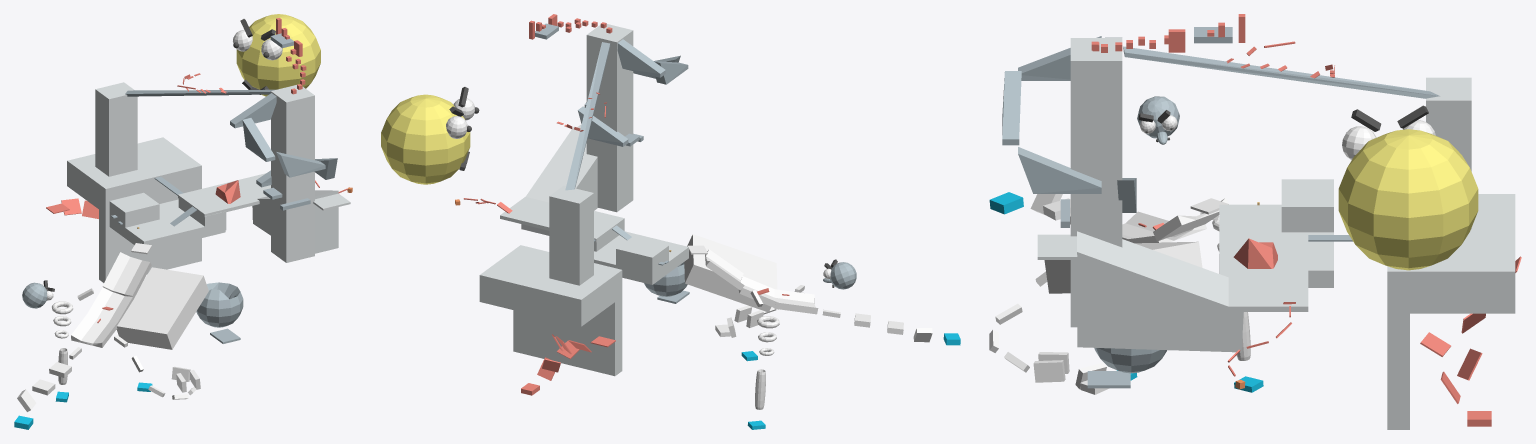
Rendered from level4.glb.
The picture shows the model from 3 angles, left to right: view 1: azimuth 30°, elevation 25°; view 2: azimuth 150°, elevation 25°; view 3: azimuth 270°, elevation 25°; orthographic projection. The views are drawn at different scales.
Parts seen in each view (by area): view 1: group127491709, group2090753955, group1751280750, group1849969514, group1240304164, group908328239, group2112206049, group1798445722, group1243319915, group503336638, group869225459, group2146043269 (+7 smaller); view 2: group127491709, group1751280750, group2090753955, group1849969514, group908328239, group1240304164, group1243319915, group2112206049, group1798445722, group869225459, group2146043269, group1717861150 (+2 smaller); view 3: group1849969514, group1243319915, group2090753955, group127491709, group1751280750, group1798445722, group2112206049, group1240304164, group2146043269, group869225459, group908328239, group1434077580 (+9 smaller).
Boxes of the visible parts, x1=… form: group127491709: x1=14, y1=243, x2=208, y2=429; group2090753955: x1=271, y1=85, x2=314, y2=262; group1751280750: x1=67, y1=137, x2=201, y2=213; group1849969514: x1=236, y1=14, x2=320, y2=96; group1240304164: x1=95, y1=82, x2=137, y2=176; group908328239: x1=99, y1=196, x2=201, y2=282; group2112206049: x1=109, y1=199, x2=225, y2=250; group1798445722: x1=178, y1=173, x2=270, y2=217; group1243319915: x1=252, y1=190, x2=338, y2=253; group503336638: x1=196, y1=282, x2=243, y2=327; group869225459: x1=109, y1=192, x2=159, y2=228; group2146043269: x1=125, y1=89, x2=275, y2=96; group127491709: x1=684, y1=234, x2=960, y2=429; group1751280750: x1=479, y1=245, x2=622, y2=326; group2090753955: x1=586, y1=24, x2=633, y2=212; group1849969514: x1=381, y1=94, x2=470, y2=184; group908328239: x1=513, y1=296, x2=622, y2=376; group1240304164: x1=549, y1=185, x2=593, y2=285; group1243319915: x1=521, y1=126, x2=597, y2=235; group2112206049: x1=594, y1=231, x2=688, y2=284; group1798445722: x1=500, y1=197, x2=624, y2=242; group869225459: x1=616, y1=236, x2=668, y2=274; group2146043269: x1=565, y1=42, x2=610, y2=190; group1717861150: x1=617, y1=39, x2=665, y2=77; group1849969514: x1=1338, y1=129, x2=1478, y2=270; group1243319915: x1=1077, y1=231, x2=1243, y2=352; group2090753955: x1=1070, y1=38, x2=1122, y2=327; group127491709: x1=989, y1=96, x2=1263, y2=394; group1751280750: x1=1387, y1=194, x2=1515, y2=313; group1798445722: x1=1219, y1=233, x2=1308, y2=311; group2112206049: x1=1219, y1=204, x2=1333, y2=287; group1240304164: x1=1426, y1=77, x2=1471, y2=229; group2146043269: x1=1123, y1=46, x2=1439, y2=98; group869225459: x1=1281, y1=179, x2=1333, y2=232; group908328239: x1=1387, y1=312, x2=1409, y2=429; group1434077580: x1=1018, y1=147, x2=1101, y2=193.
Bounding box in the file's own units: 9.56 × 7.14 × 6.31.
